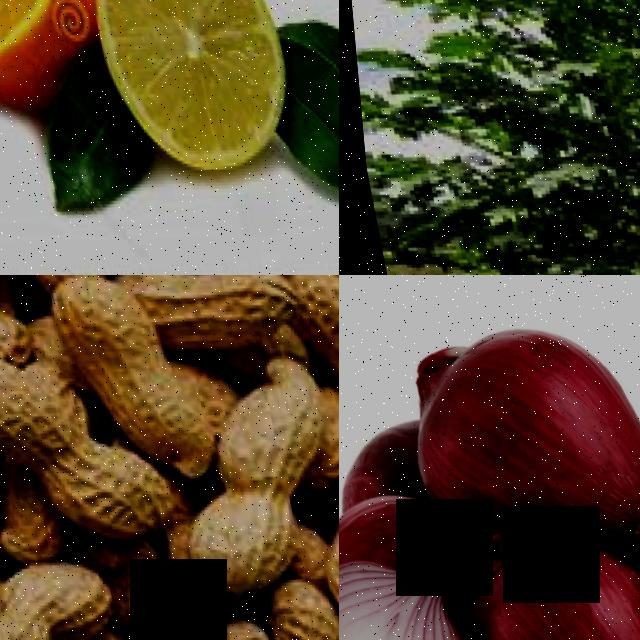onion: (396, 298, 640, 547), (443, 519, 640, 640), (339, 542, 482, 640)
peanuts: (46, 275, 180, 428), (200, 344, 331, 489), (171, 449, 306, 585), (31, 422, 172, 539), (146, 275, 307, 358), (0, 545, 111, 640), (0, 338, 77, 471), (112, 557, 233, 640), (252, 560, 339, 640), (296, 275, 339, 431), (305, 462, 339, 614)
